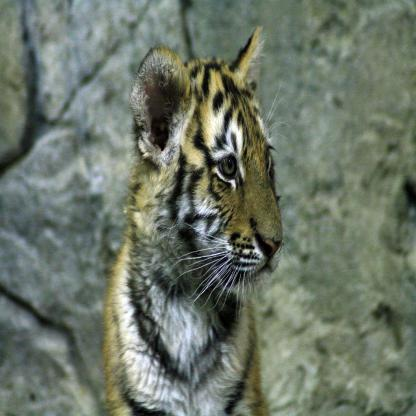tiger: (146, 30, 286, 300)
